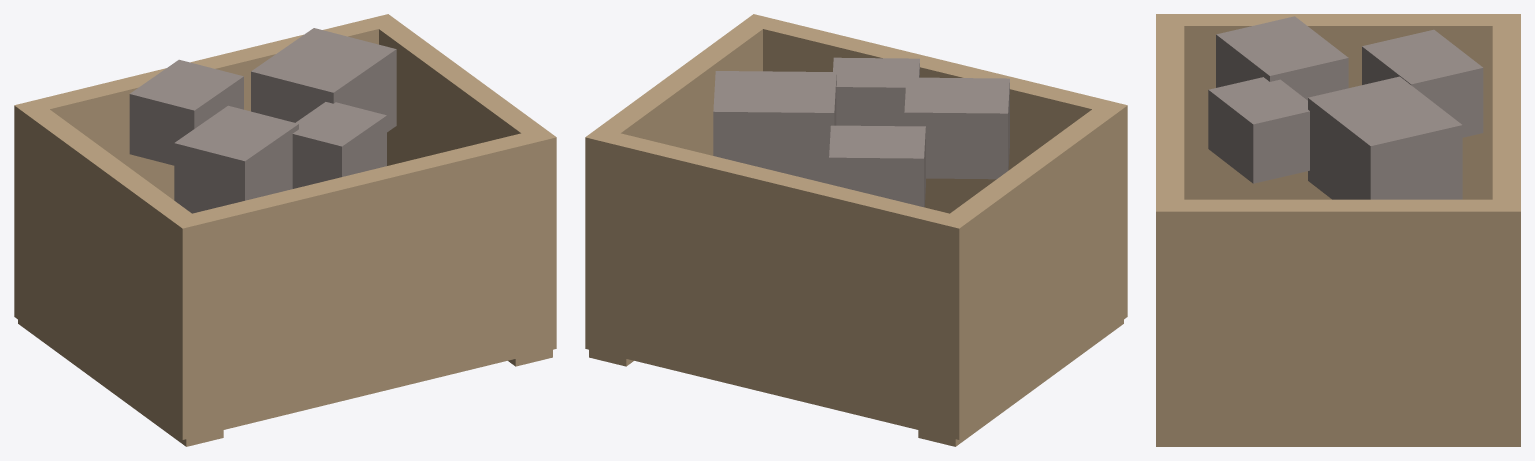
File: prop-ore-crate-mn1.fbx
The picture shows the model from 3 angles, left to right: view 1: azimuth 30°, elevation 25°; view 2: azimuth 150°, elevation 25°; view 3: azimuth 270°, elevation 25°; orthographic projection. The views are drawn at different scales.
Parts seen in each view (by area): view 1: prop-ore-crate-mn1; view 2: prop-ore-crate-mn1; view 3: prop-ore-crate-mn1.
Boxes of the visible parts, bbox=[...] form: prop-ore-crate-mn1: bbox=[14, 14, 556, 446]; prop-ore-crate-mn1: bbox=[585, 14, 1127, 446]; prop-ore-crate-mn1: bbox=[1156, 14, 1520, 446].
Size of the model in its own units: 50 by 31.9 by 39.
